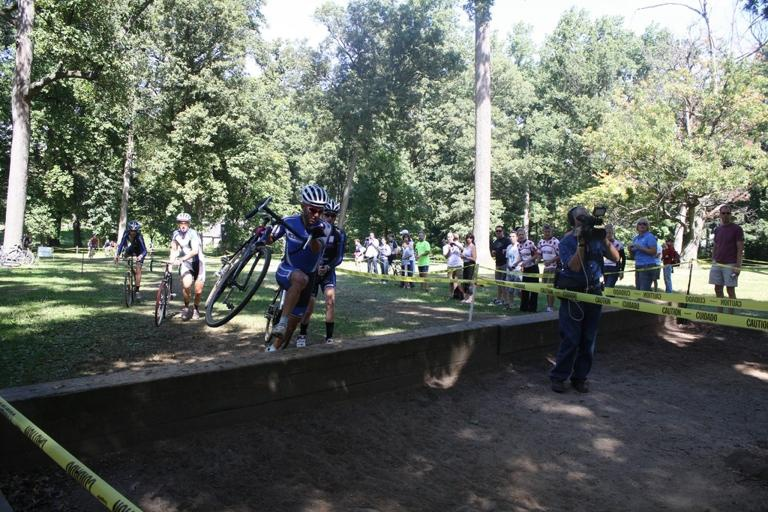non-vehicle: (200, 196, 312, 322), (259, 260, 327, 343), (147, 254, 180, 330), (114, 253, 145, 307), (0, 241, 36, 268), (87, 243, 96, 263)
